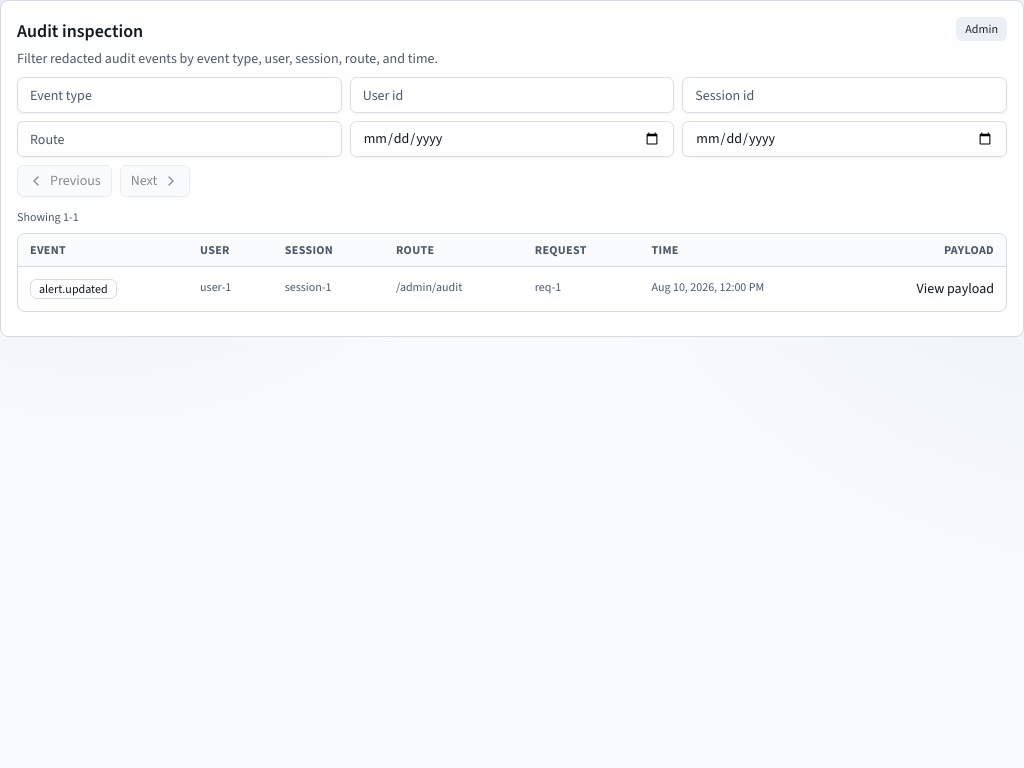
Scenario: AuditWorkspace › renders payload text without executing markup
Step 1. Click the button "View payload" → (955, 289), box [916,279,994,299]
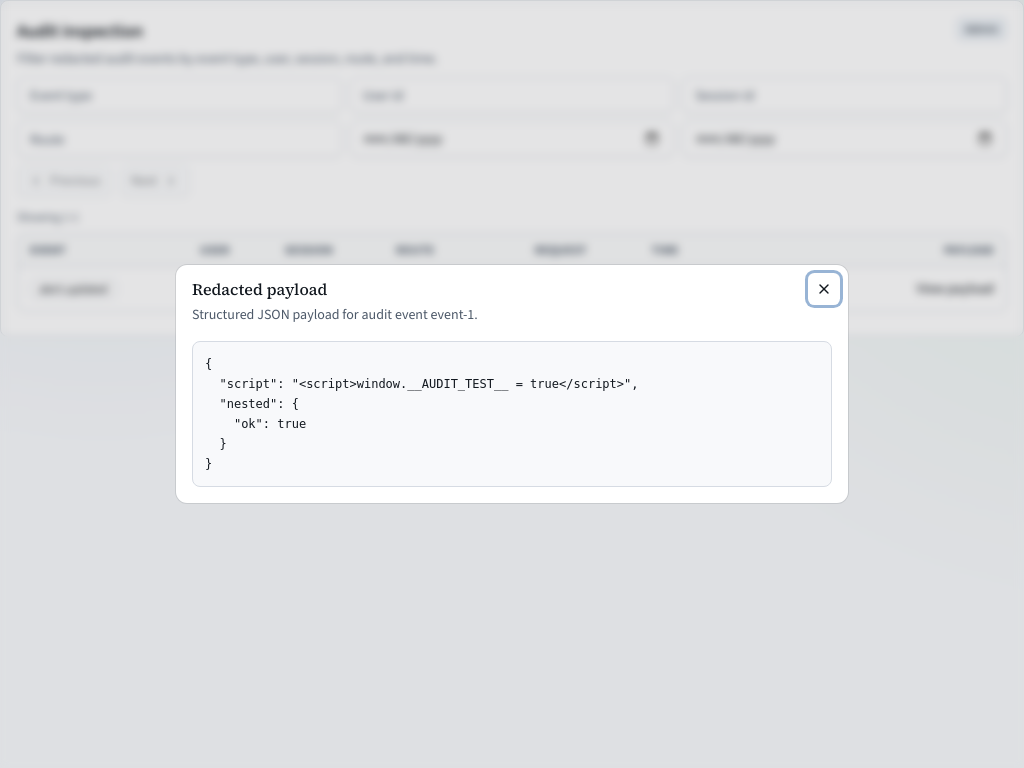
Expected: the text "<script>window.__AUDIT_TEST__ = true</script>" is shown, [205,357,638,471]
